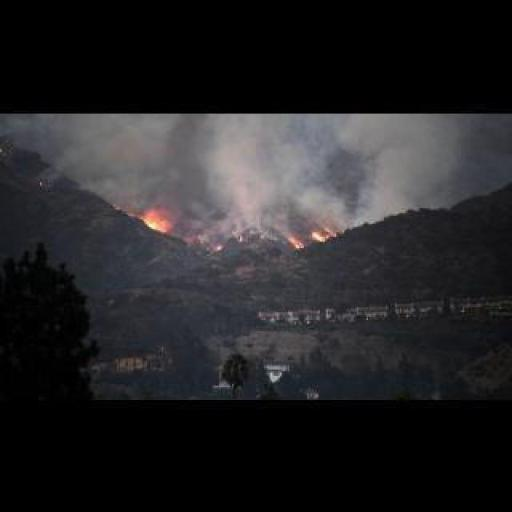smoke: (291, 226, 338, 250), (138, 206, 174, 234)
